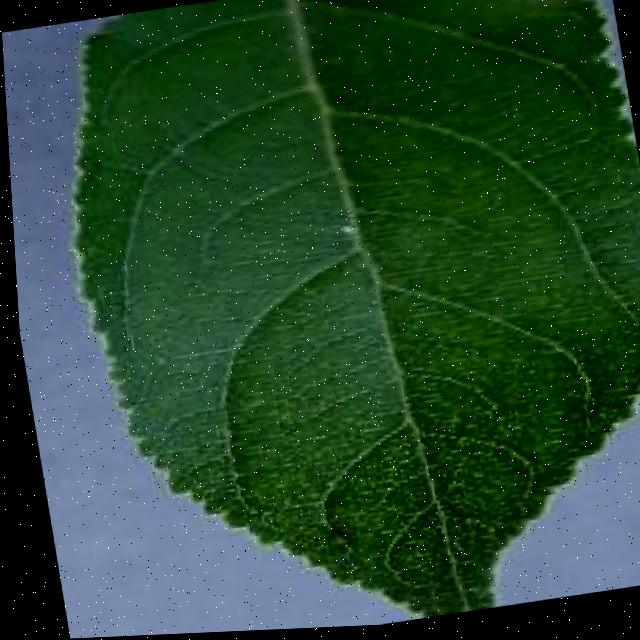healthy: (26, 0, 640, 639)
